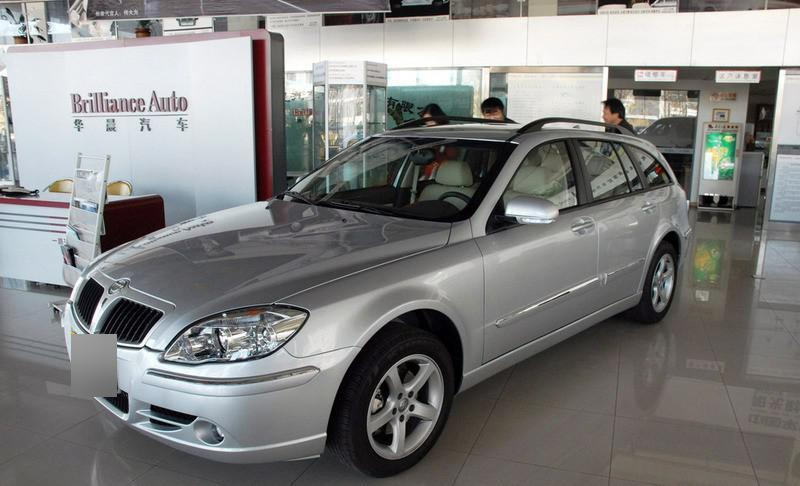Wagon: (61, 115, 693, 480)
